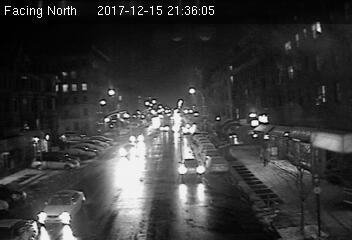car: (37, 189, 84, 224), (179, 159, 205, 181), (206, 156, 229, 172), (128, 131, 144, 143)
